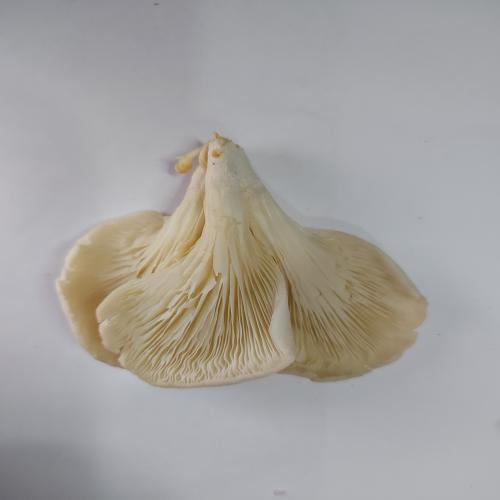Oyster Mushroom: (55, 131, 429, 389)
